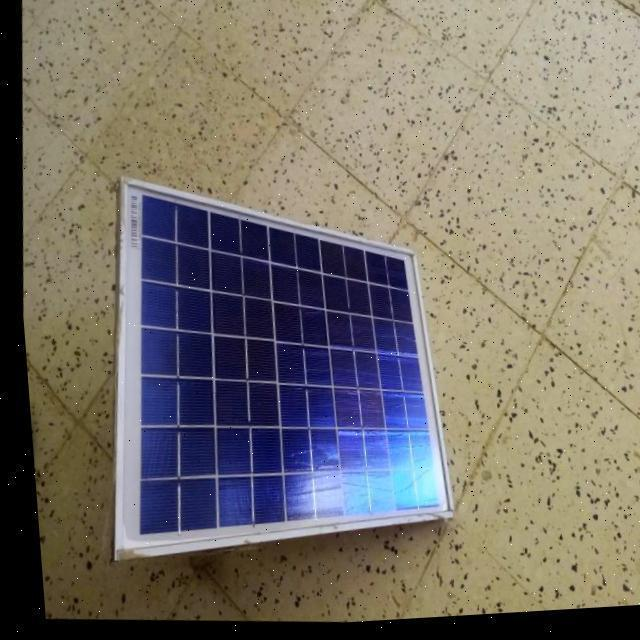Normal Solar Panel: (85, 161, 468, 579)
